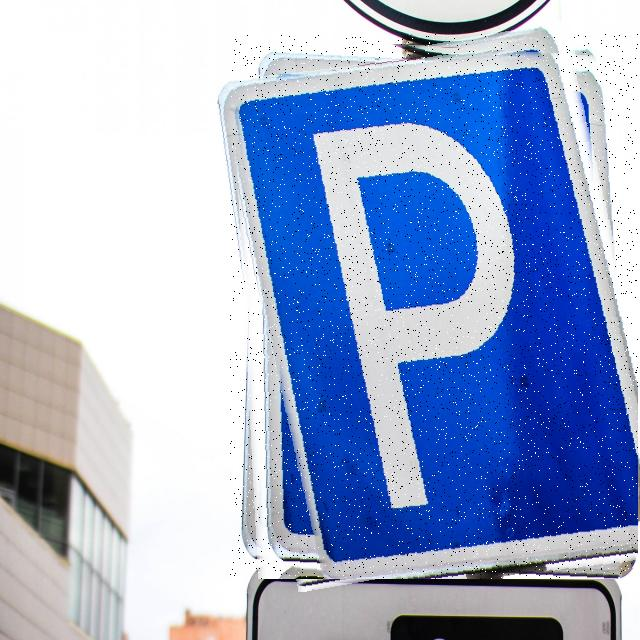parking: (230, 34, 638, 579)
